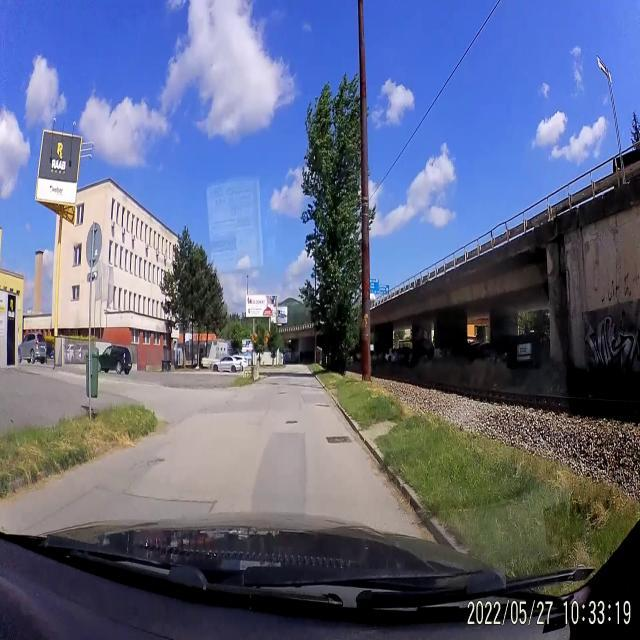Manhole: (325, 430, 352, 449)
Pothole: (142, 452, 168, 470), (314, 401, 334, 411), (283, 418, 301, 428), (278, 390, 291, 398), (268, 382, 280, 386)
